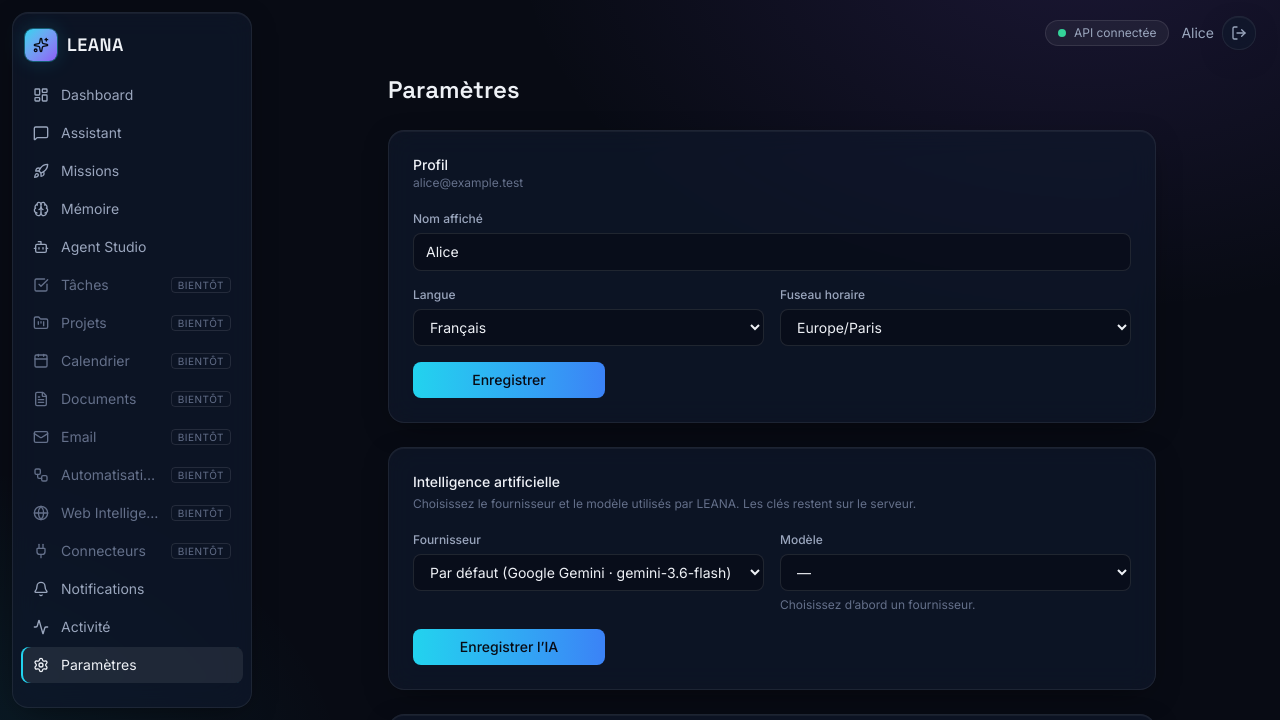
Test: AI settings › lets the user pick OpenRouter and one of its models
The width and height of the screenshot is (1280, 720).
Expected: the dropdown labelled "Modèle" is disabled, x1=780 y1=554 x2=1131 y2=591
Step 1. Select "OpenRouter" in the dropdown labelled "Fournisseur" → (588, 572), box x1=413 y1=554 x2=764 y2=591
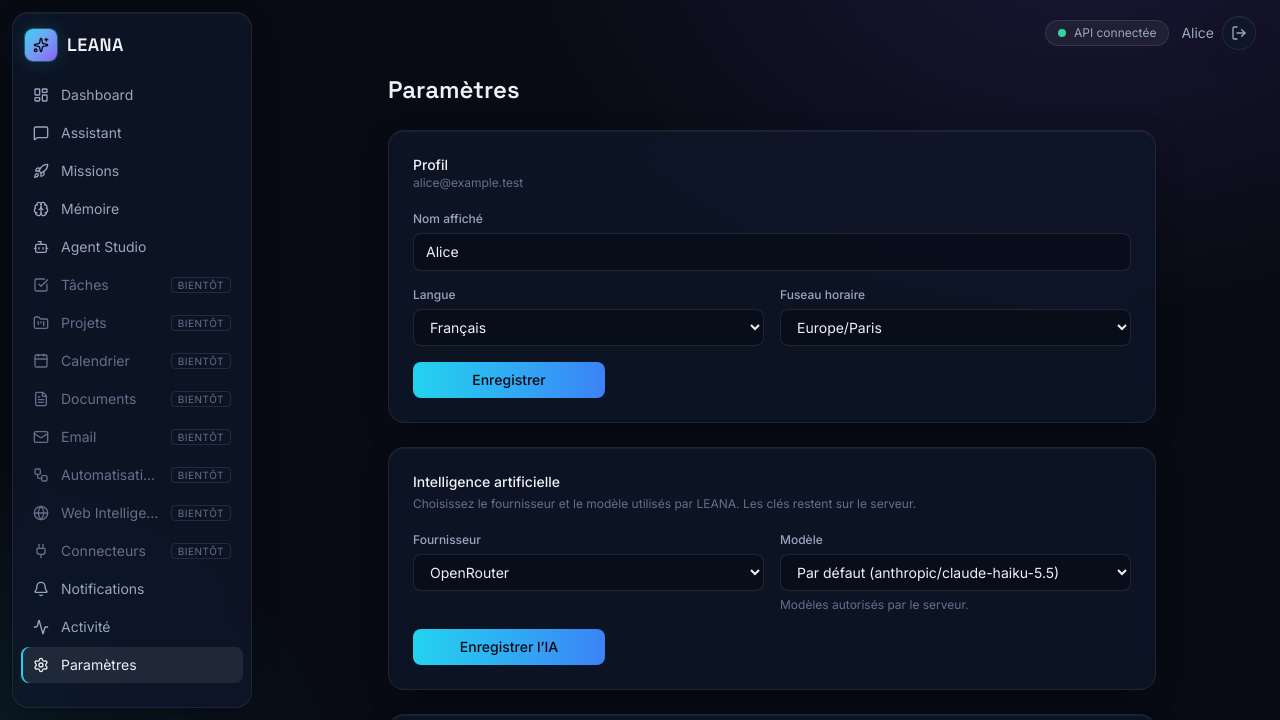
Now the dropdown labelled "Modèle" is enabled
Step 2. Select "mistralai/mistral-small-2603" in the dropdown labelled "Modèle" → (956, 572), box x1=780 y1=554 x2=1131 y2=591
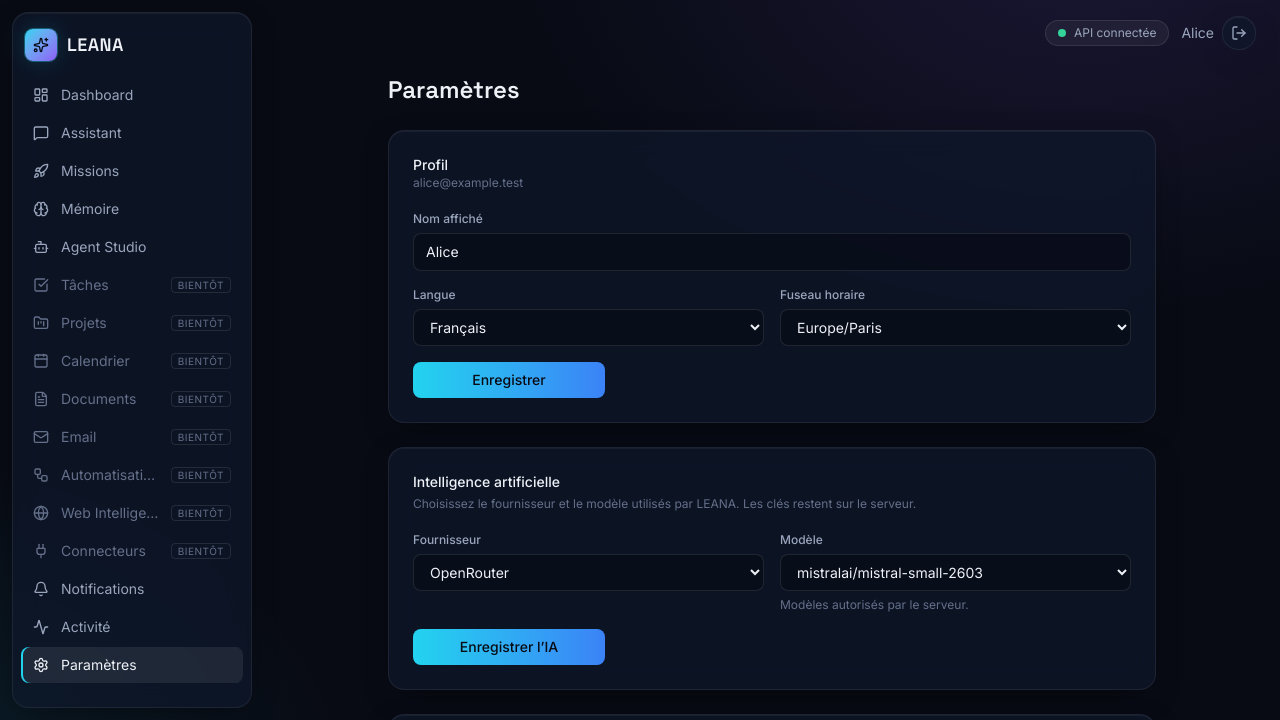
Step 3. Click the button "Enregistrer l’IA" → (509, 647), box x1=413 y1=629 x2=605 y2=665
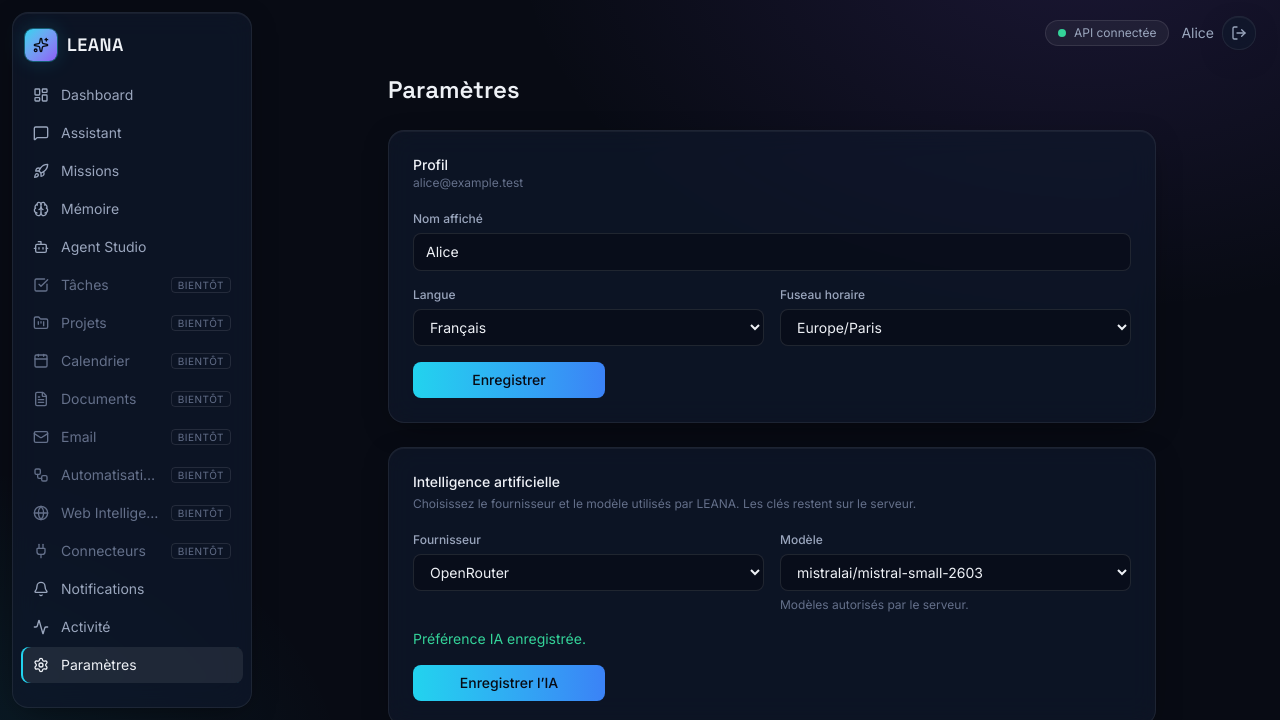
Now the text "Préférence IA enregistrée." is shown, box x1=413 y1=630 x2=586 y2=647
